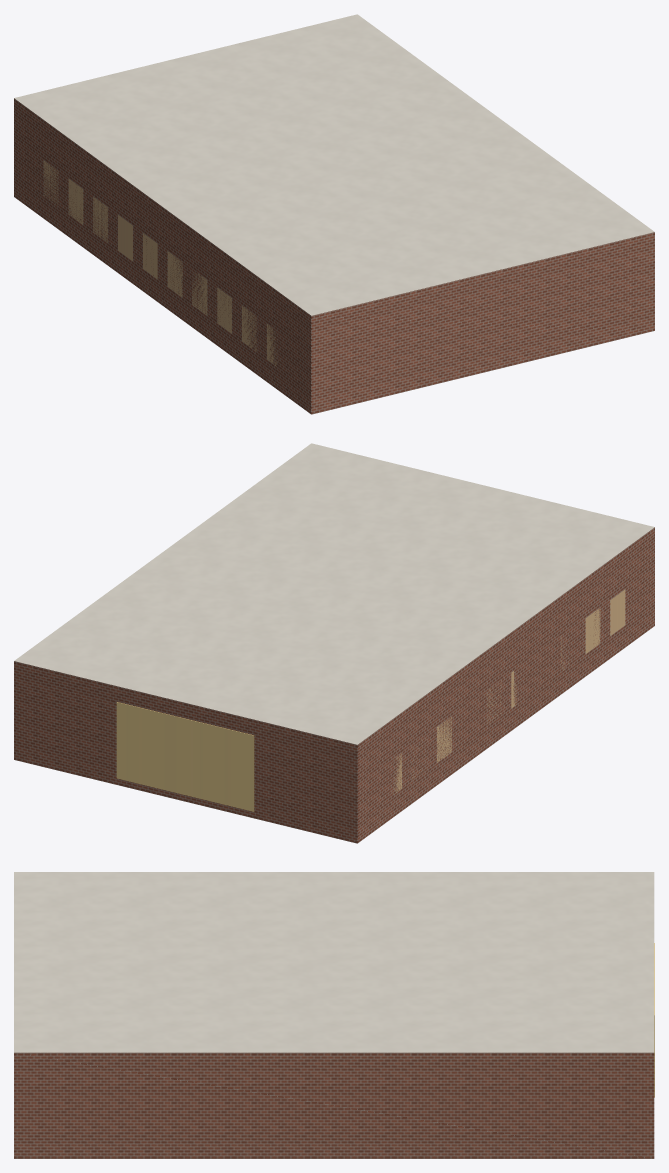
File: mirrors.glb
The picture shows the model from 3 angles, top to bottom: view 1: azimuth 30°, elevation 25°; view 2: azimuth 150°, elevation 25°; view 3: azimuth 270°, elevation 25°; orthographic projection. The views are drawn at different scales.
Parts seen in each view (by area): view 1: Ceiling, WallNear, WallLeft, CorridorFrame4, CorridorFrame8; view 2: Ceiling, WallLeft, WallFar, FarFrame, CorridorFrame0, CorridorFrame1; view 3: Ceiling, WallRight.
Part boxes in pixels (left/top/right/bottom): Ceiling: left=14, top=14, right=654, bottom=315; WallNear: left=311, top=232, right=654, bottom=414; WallLeft: left=14, top=98, right=311, bottom=413; CorridorFrame4: left=167, top=251, right=182, bottom=296; CorridorFrame8: left=68, top=179, right=83, bottom=224; Ceiling: left=14, top=443, right=654, bottom=744; WallLeft: left=357, top=527, right=654, bottom=842; WallFar: left=14, top=661, right=357, bottom=843; FarFrame: left=116, top=702, right=254, bottom=811; CorridorFrame0: left=610, top=589, right=625, bottom=635; CorridorFrame1: left=585, top=608, right=600, bottom=653; Ceiling: left=14, top=872, right=654, bottom=1052; WallRight: left=14, top=1052, right=654, bottom=1158.
Size of the model in its own units: 16 by 4.4 by 24.02.
Materials: 18 (10 with a texture image).
